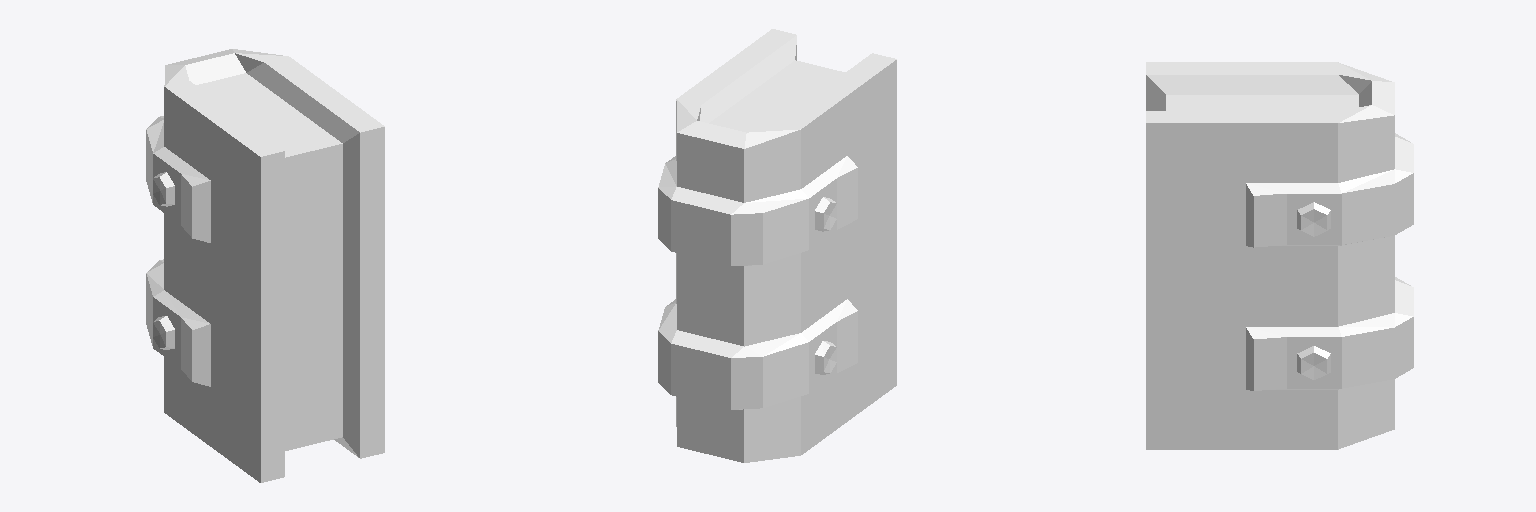
The model's file is spellbook_closed.obj.
3 renders of one model, left to right at view 1: azimuth 30°, elevation 25°; view 2: azimuth 150°, elevation 25°; view 3: azimuth 270°, elevation 25°, orthographic.
Parts seen in each view (by area): view 1: spellbook_closed; view 2: spellbook_closed; view 3: spellbook_closed.
Boxes of the visible parts, x1=… form: spellbook_closed: x1=146, y1=49, x2=384, y2=482; spellbook_closed: x1=658, y1=29, x2=896, y2=462; spellbook_closed: x1=1146, y1=62, x2=1413, y2=449.
Bounding box in the file's own units: 0.293 × 0.575 × 0.4271.